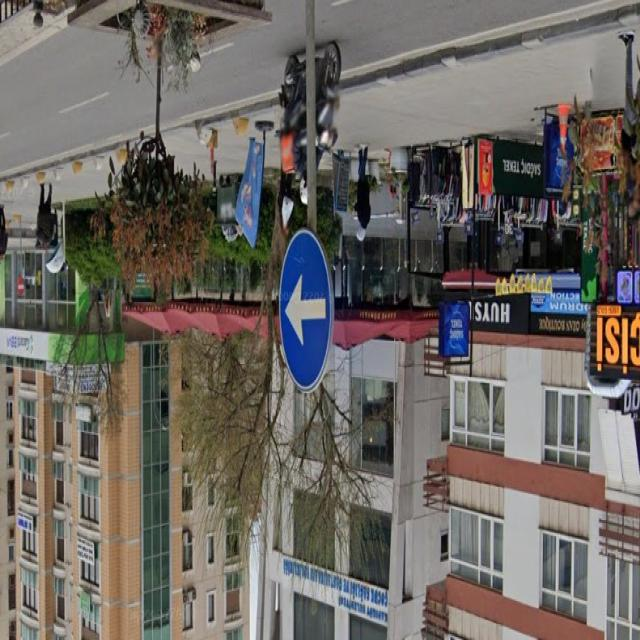Turn Left: (280, 232, 335, 403)
